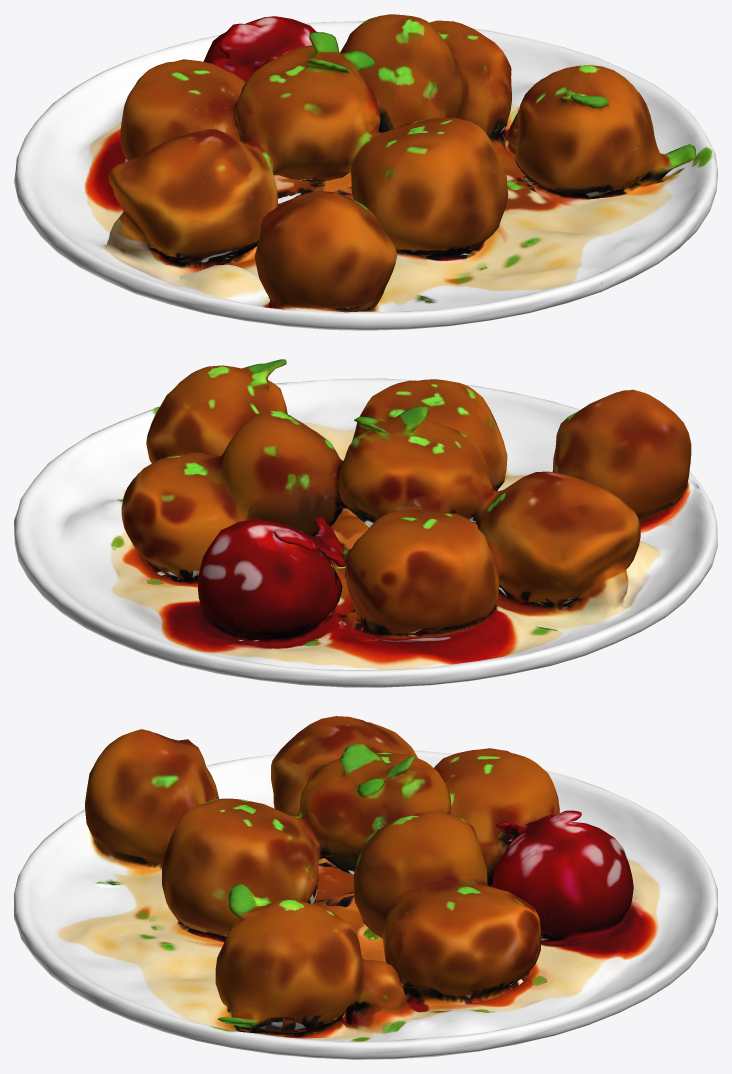
Rendered from Meshy_AI_sweetish_meat_balls_o_0404203406_texture.glb.
The picture shows the model from 3 angles, top to bottom: view 1: azimuth 30°, elevation 25°; view 2: azimuth 150°, elevation 25°; view 3: azimuth 270°, elevation 25°; orthographic projection.
Bounding box in the file's own units: 1.91 × 0.5714 × 1.9.
1 material, 1 textured.
